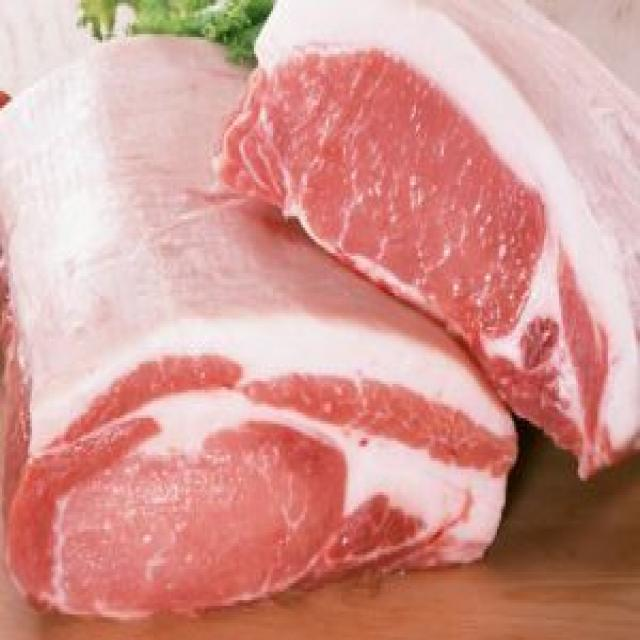pork: (245, 0, 640, 472), (5, 323, 526, 629)
